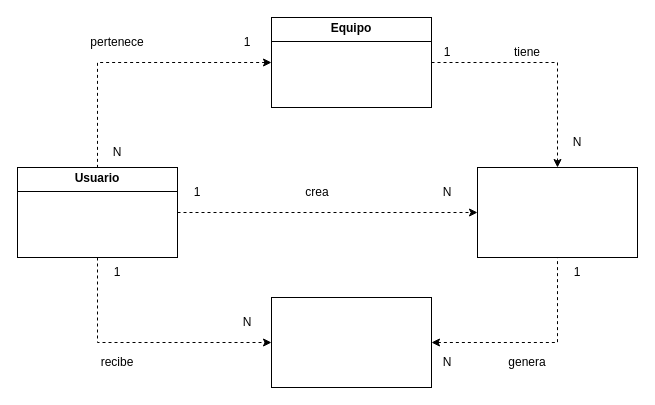
Some shapes in this 655 by 405 pixel diagram are drawn without their labels. The centre of each missing label's shape, as x and y in pixels:
Evento: the point at 557,212
Invitación: the point at 351,342
